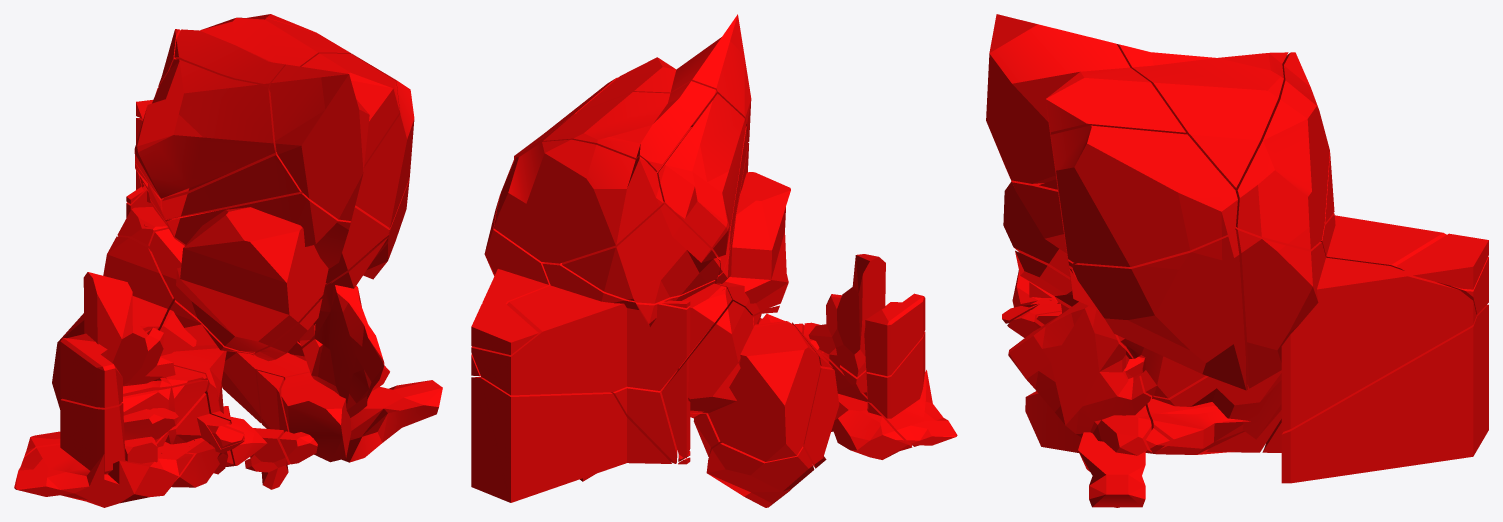
File: EndSection.fbx
The picture shows the model from 3 angles, left to right: view 1: azimuth 30°, elevation 25°; view 2: azimuth 150°, elevation 25°; view 3: azimuth 270°, elevation 25°; orthographic projection. The views are drawn at different scales.
Visible parts, largest first — view 1: Voronoi_Fracture_1; view 2: Voronoi_Fracture_1; view 3: Voronoi_Fracture_1.
Boxes of the visible parts, left/top/right/bottom form: Voronoi_Fracture_1: left=14, top=14, right=442, bottom=507; Voronoi_Fracture_1: left=471, top=14, right=957, bottom=507; Voronoi_Fracture_1: left=986, top=14, right=1488, bottom=507.
Bounding box in the file's own units: 103 × 103 × 97.65.
